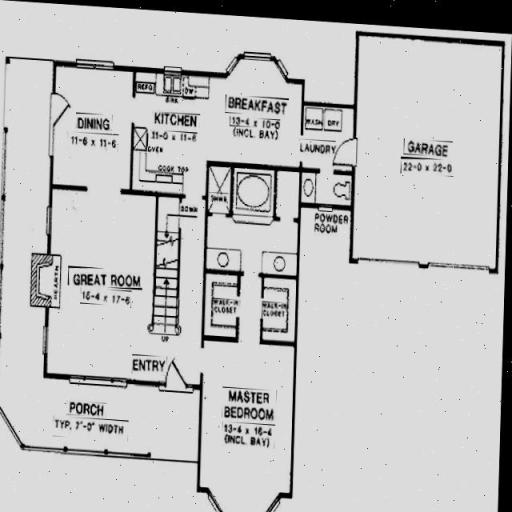Room: (208, 344, 290, 496), (214, 55, 300, 166), (57, 72, 130, 183)
garage: (363, 35, 497, 268)
hall: (51, 195, 200, 383)
kitchen: (132, 78, 206, 193)
